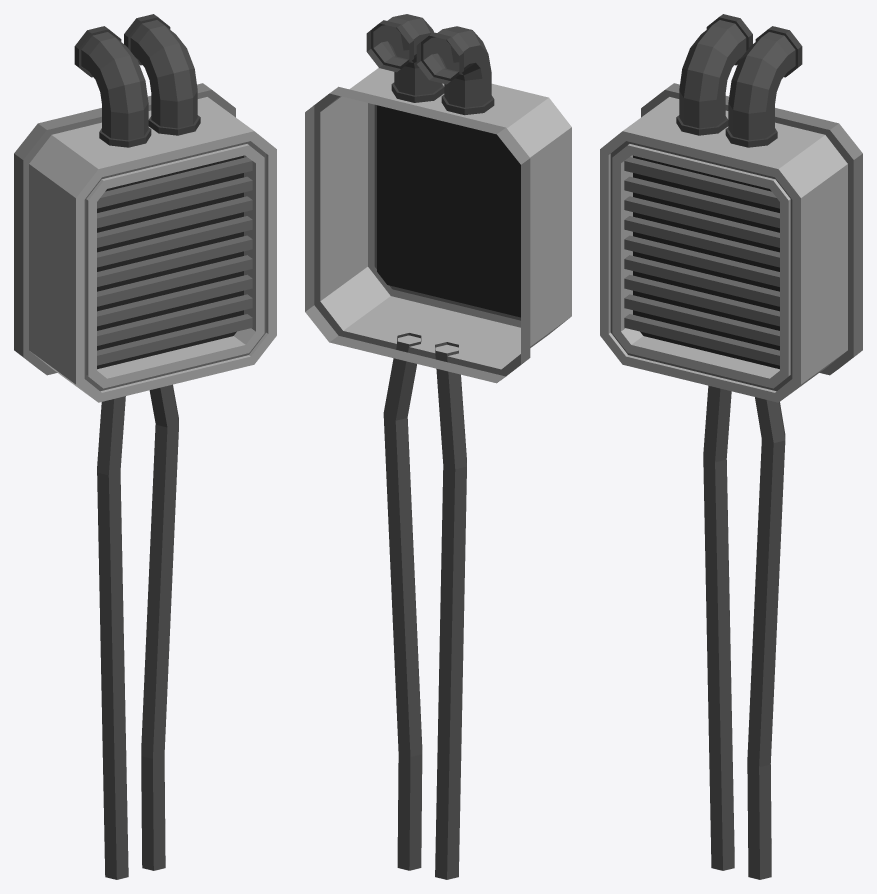
The model's file is SM_BuildingsDecor_10.fbx.
3 renders of one model, left to right at view 1: azimuth 30°, elevation 25°; view 2: azimuth 150°, elevation 25°; view 3: azimuth 330°, elevation 25°, orthographic.
Visible parts, largest first — view 1: SM_BuildingsDecor_10; view 2: SM_BuildingsDecor_10; view 3: SM_BuildingsDecor_10.
Part boxes in pixels (x1,y1,x2,y2): SM_BuildingsDecor_10: [14, 14, 276, 879]; SM_BuildingsDecor_10: [305, 14, 571, 879]; SM_BuildingsDecor_10: [600, 14, 862, 879].
Size of the model in its own units: 0.5887 by 2.21 by 0.2687.
